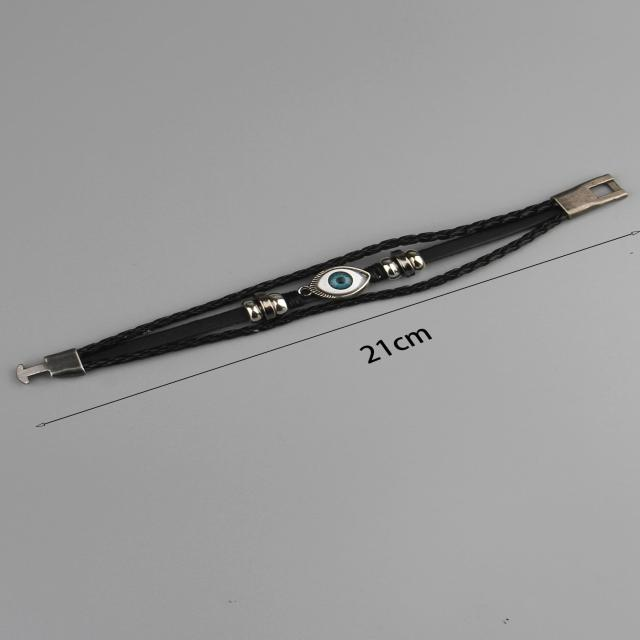bracelet: (0, 125, 640, 418)
